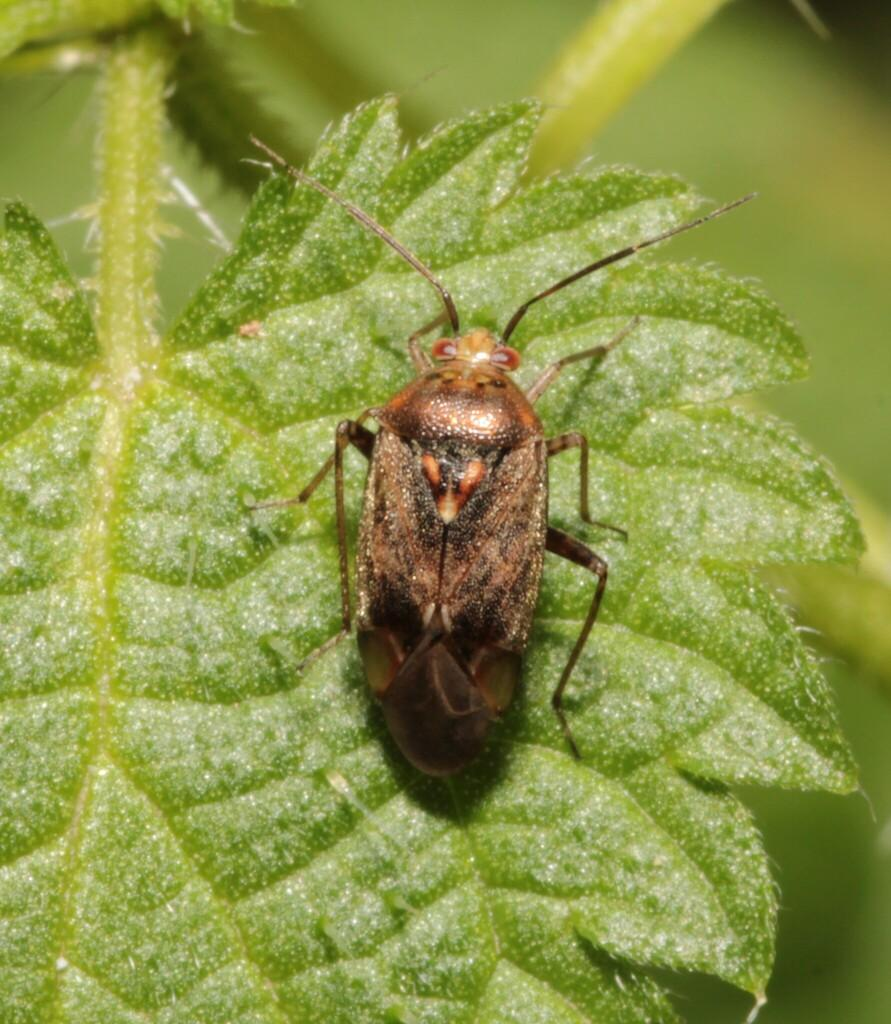plant_bugs: (168, 56, 827, 863)
